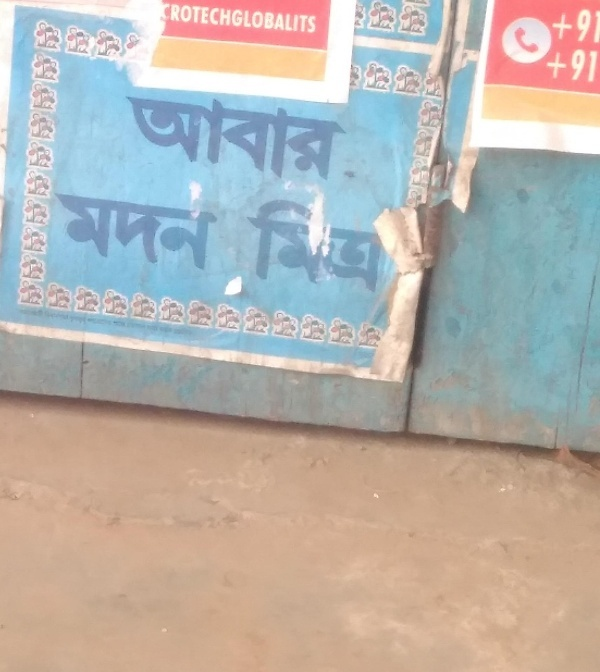text: (257, 195, 272, 296), (273, 195, 288, 296), (289, 195, 304, 296), (305, 195, 320, 296), (321, 195, 336, 296), (337, 195, 352, 296), (353, 195, 368, 296), (369, 195, 384, 296), (385, 195, 400, 296), (242, 195, 256, 296), (129, 94, 144, 186), (145, 94, 160, 186), (161, 94, 176, 186), (177, 94, 192, 186), (193, 94, 208, 186), (209, 94, 224, 186), (225, 94, 240, 186), (241, 94, 256, 186), (257, 94, 272, 186), (273, 94, 288, 186), (289, 94, 304, 186), (305, 94, 320, 186), (321, 94, 336, 186), (337, 94, 352, 186), (65, 187, 80, 276), (81, 187, 96, 276), (97, 187, 112, 276), (113, 187, 128, 276), (129, 187, 144, 276), (145, 187, 160, 276), (161, 187, 176, 276), (177, 187, 192, 276), (193, 187, 208, 276), (513, 2, 528, 90), (529, 2, 544, 90), (545, 2, 560, 90), (561, 2, 576, 90), (577, 2, 592, 90), (209, 187, 221, 276), (53, 187, 64, 276), (120, 94, 128, 186), (161, 1, 176, 38), (177, 1, 192, 38), (193, 1, 208, 38), (209, 1, 224, 38), (225, 1, 240, 38), (241, 1, 256, 38), (257, 1, 272, 38), (273, 1, 288, 38), (289, 1, 304, 38), (305, 1, 320, 38), (593, 2, 599, 90), (508, 2, 512, 90), (153, 1, 160, 38), (321, 1, 327, 38), (401, 195, 403, 296)
